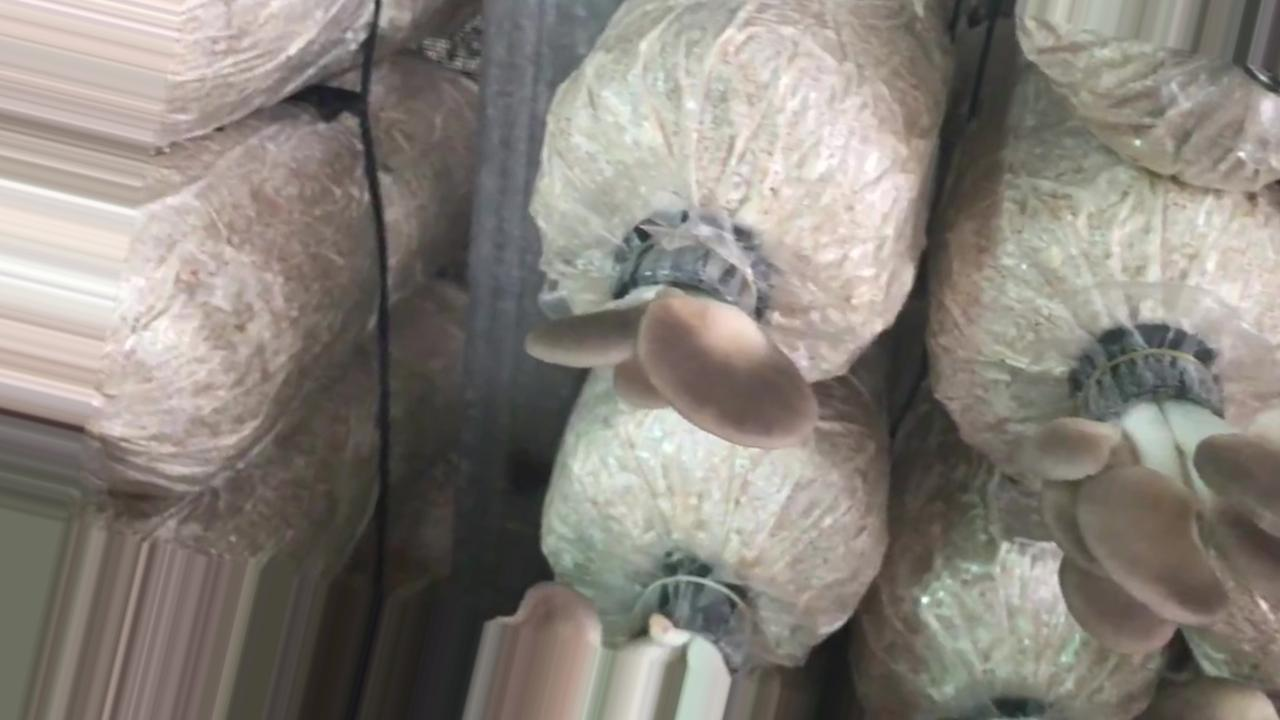nam: (1038, 337, 1280, 648), (528, 224, 820, 450)
